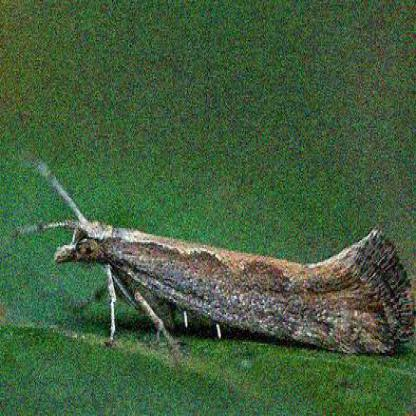plutella: (23, 148, 415, 376)
